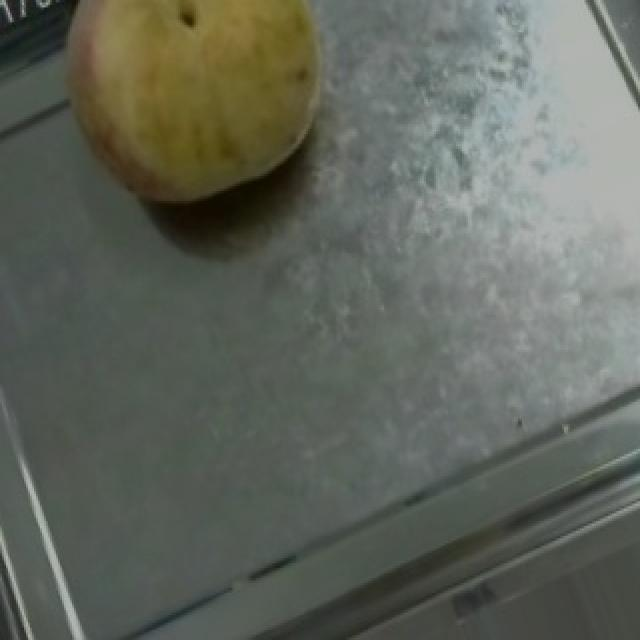Fruit: (24, 0, 352, 248)
